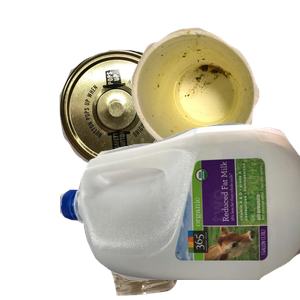glass: (91, 142, 260, 300)
metal: (57, 47, 227, 211)
plastic: (60, 120, 300, 300)
trash: (129, 25, 300, 173)
